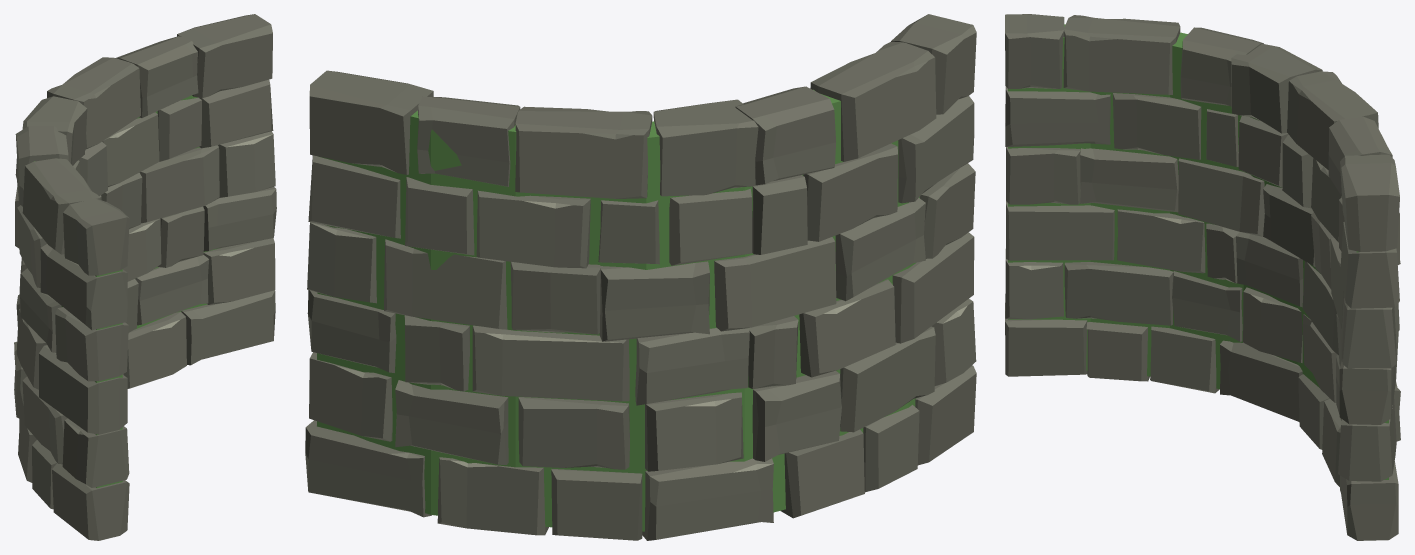
The model's file is ruin_wall.glb.
The picture shows the model from 3 angles, left to right: view 1: azimuth 30°, elevation 25°; view 2: azimuth 150°, elevation 25°; view 3: azimuth 270°, elevation 25°; orthographic projection. The views are drawn at different scales.
Visible parts, largest first — view 1: ruin_wall; view 2: ruin_wall; view 3: ruin_wall.
Boxes of the visible parts, bbox=[...] form: ruin_wall: bbox=[14, 14, 276, 540]; ruin_wall: bbox=[305, 14, 976, 540]; ruin_wall: bbox=[1005, 14, 1400, 540].
Size of the model in its own units: 2.27 by 2 by 2.07.
